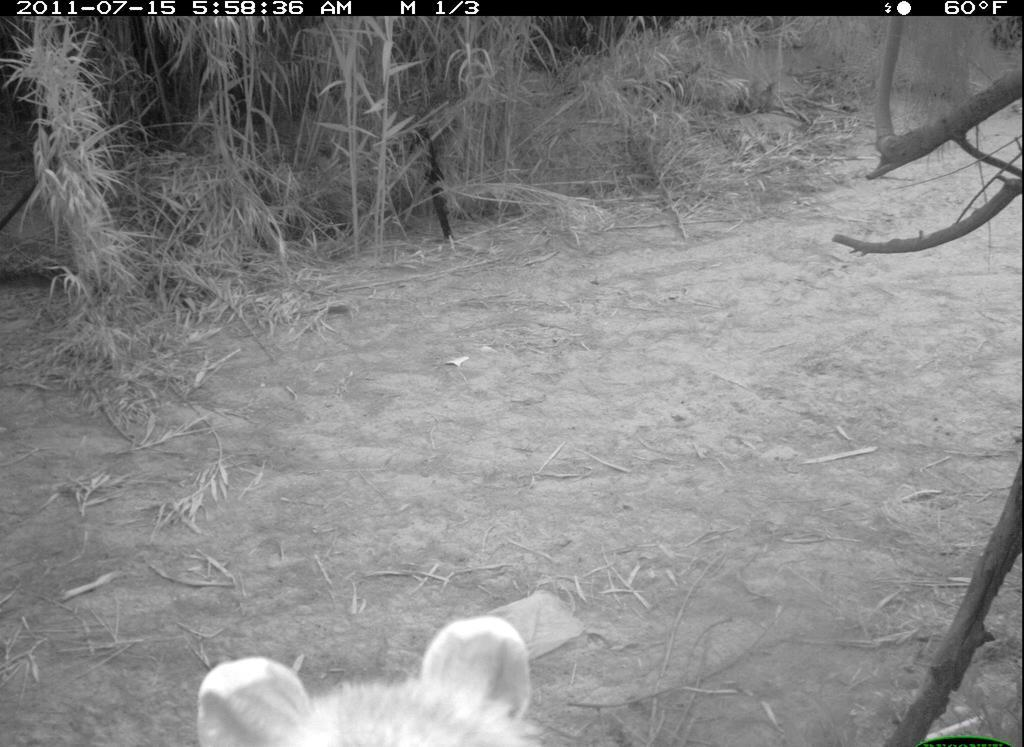opossum: (185, 624, 551, 747)
